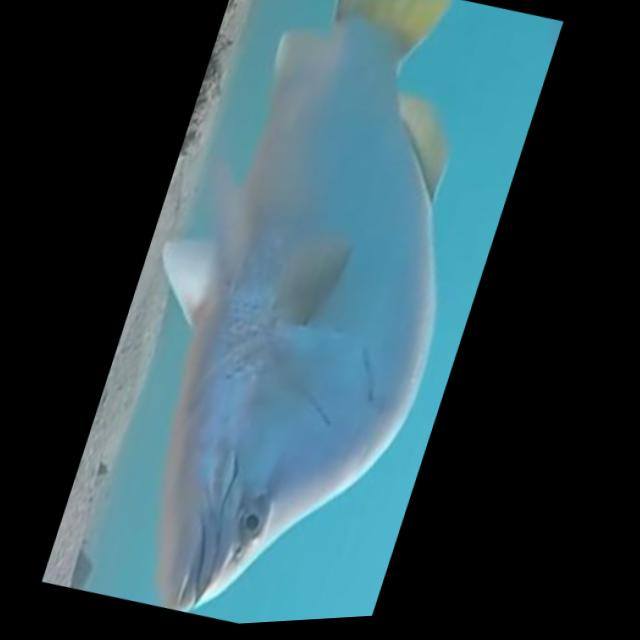Seabass: (51, 0, 543, 635)
